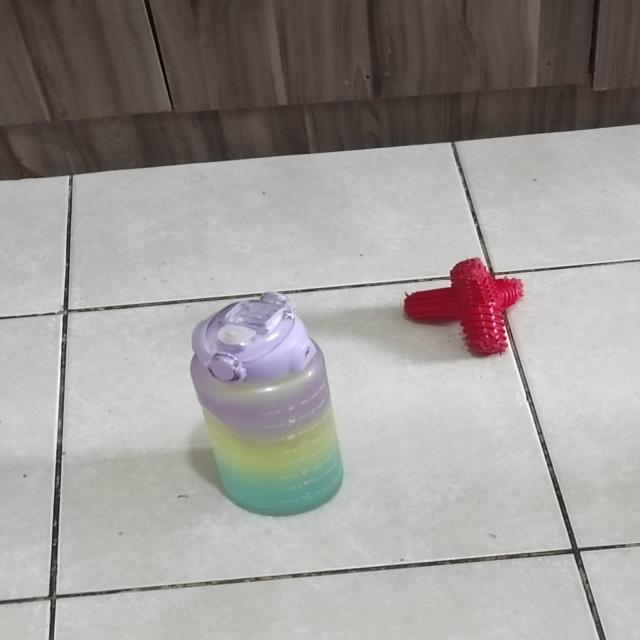brinquedo caro: (388, 250, 528, 363)
garrafinha de agua: (158, 288, 364, 523)
